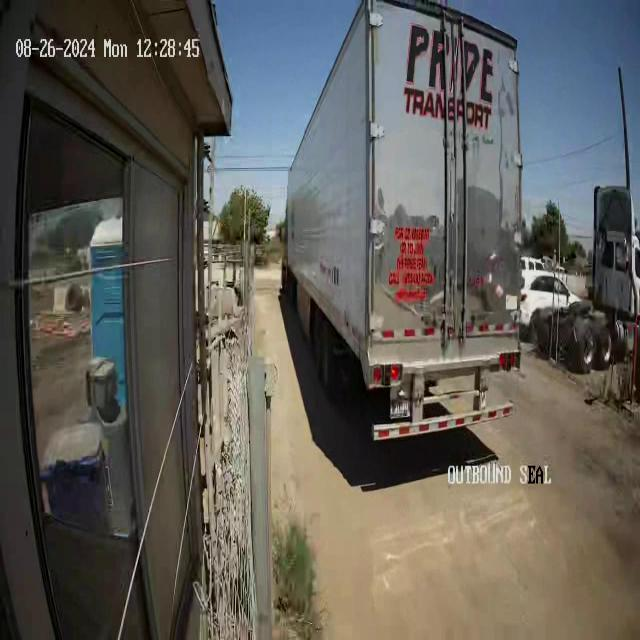CONTAINER: (285, 1, 524, 384)
